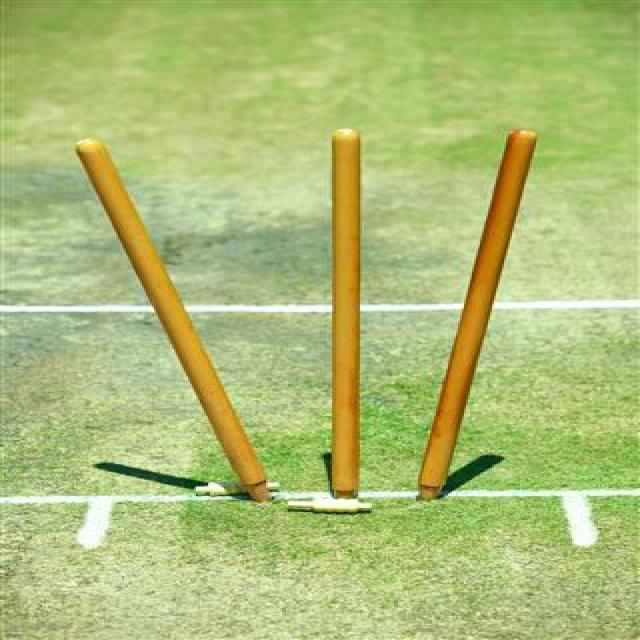stump: (68, 131, 555, 486)
